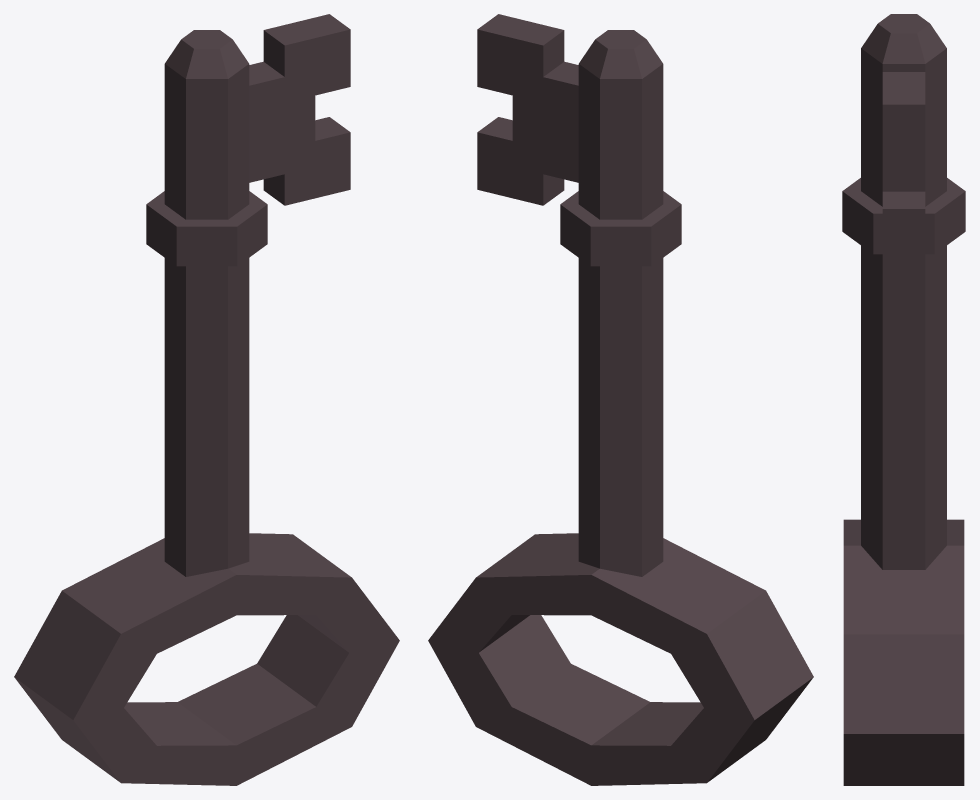
The model's file is key.glb.
The picture shows the model from 3 angles, left to right: view 1: azimuth 30°, elevation 25°; view 2: azimuth 150°, elevation 25°; view 3: azimuth 270°, elevation 25°; orthographic projection.
Visible parts, largest first — view 1: Cylinder; view 2: Cylinder; view 3: Cylinder.
Part boxes in pixels (bbox=[...]): Cylinder: bbox=[14, 14, 399, 785]; Cylinder: bbox=[428, 14, 813, 785]; Cylinder: bbox=[842, 14, 965, 785].
Size of the model in its own units: 3.24 by 6.87 by 1.04.
1 material, 1 textured.
